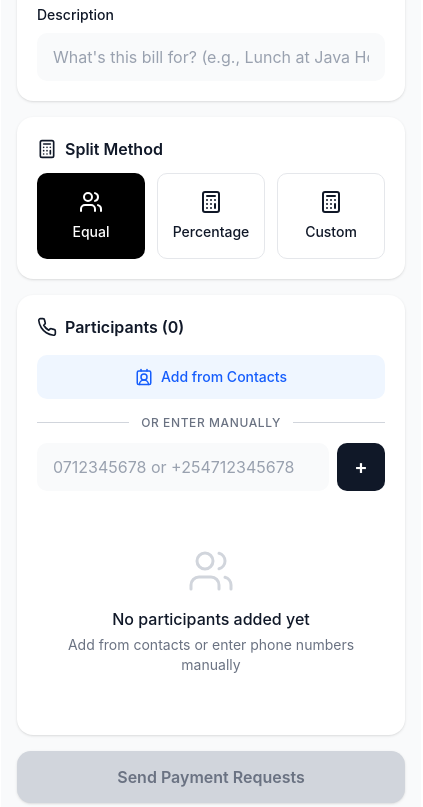
CreateNewBillPage › adds multiple participants
This screenshot has width=423, height=807.
(page scrolled)
# Add first participant
Type "+254712345678" into the field with placeholder "0712345678 or +254712345678".
click(183, 466); type("+254712345678")  # box x1=37 y1=442 x2=329 y2=490
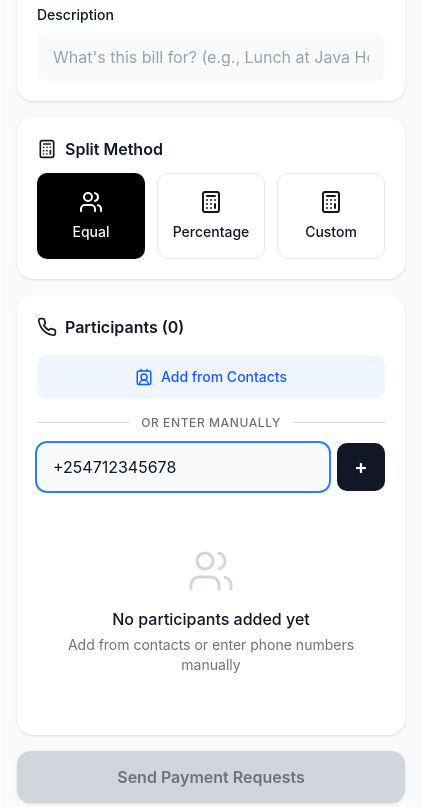
Click the button "+".
click(361, 466)  # box x1=337 y1=442 x2=385 y2=490
(page scrolled)
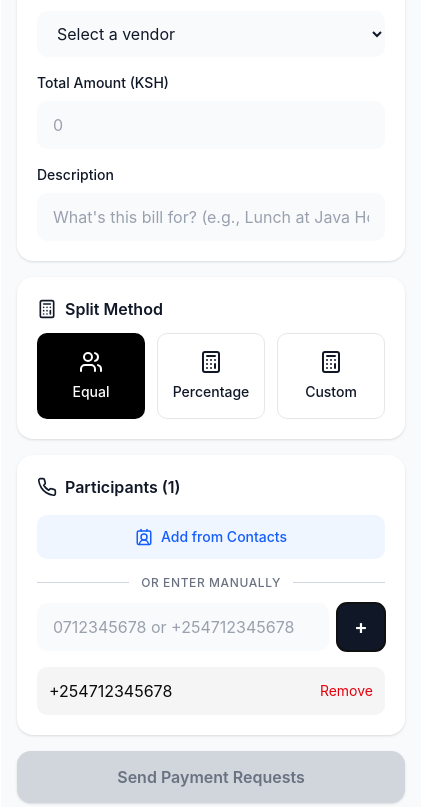
# Add second participant
Type "+254700000000" into the field with placeholder "0712345678 or +254712345678".
click(183, 626); type("+254700000000")  # box x1=37 y1=602 x2=329 y2=650
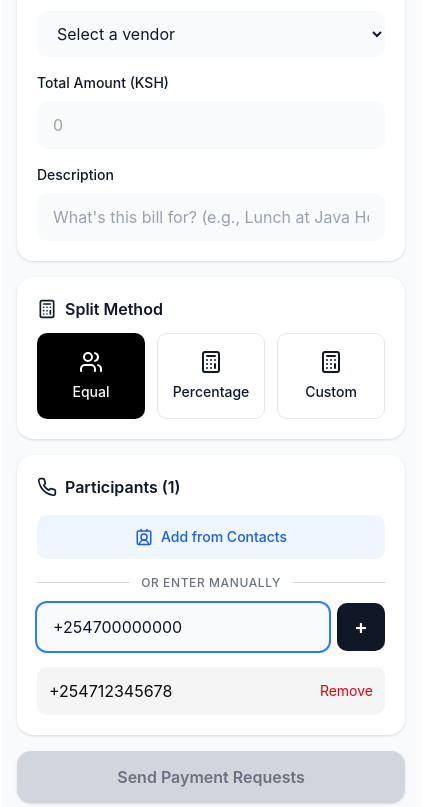
Click the button "+".
click(361, 626)  # box x1=337 y1=602 x2=385 y2=650
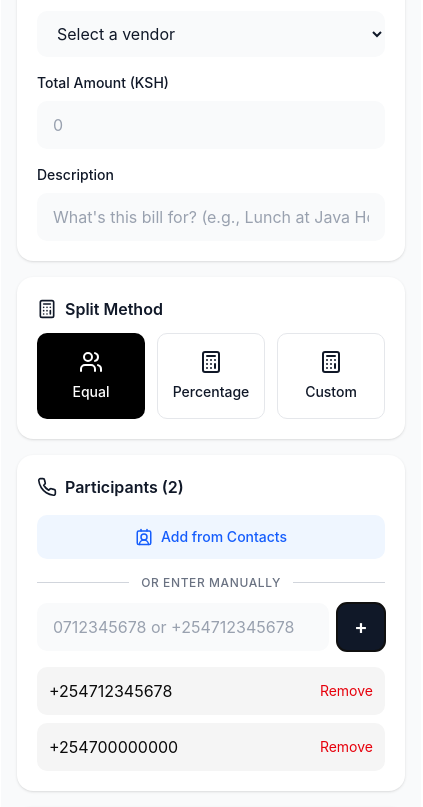
Result: the text "+254712345678" is shown at x1=49 y1=678 x2=172 y2=702
Result: the text "+254700000000" is shown at x1=49 y1=734 x2=178 y2=758
Result: the heading "Participants (2)" is shown at x1=65 y1=474 x2=184 y2=498
